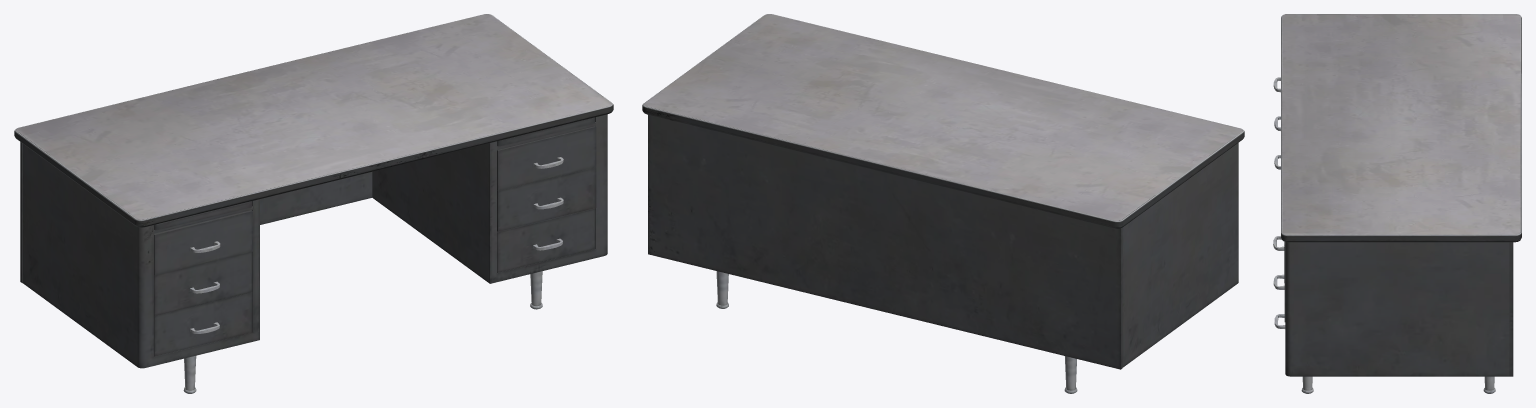
The model's file is metal_office_desk.glb.
The picture shows the model from 3 angles, left to right: view 1: azimuth 30°, elevation 25°; view 2: azimuth 150°, elevation 25°; view 3: azimuth 270°, elevation 25°; orthographic projection. The views are drawn at different scales.
Visible parts, largest first — view 1: metal_office_desk, metal_office_desk_drawer_04, metal_office_desk_drawer_01, metal_office_desk_drawer_02, metal_office_desk_drawer_03, metal_office_desk_drawer_06, metal_office_desk_drawer_05, metal_office_desk_tray_01, metal_office_desk_tray_02; view 2: metal_office_desk; view 3: metal_office_desk.
Part boxes in pixels (bbox=[...]): metal_office_desk: bbox=[14, 14, 613, 393]; metal_office_desk_drawer_04: bbox=[154, 210, 252, 275]; metal_office_desk_drawer_01: bbox=[497, 126, 596, 191]; metal_office_desk_drawer_02: bbox=[497, 167, 596, 231]; metal_office_desk_drawer_03: bbox=[497, 208, 595, 272]; metal_office_desk_drawer_06: bbox=[154, 292, 252, 356]; metal_office_desk_drawer_05: bbox=[154, 251, 252, 315]; metal_office_desk_tray_01: bbox=[154, 201, 252, 230]; metal_office_desk_tray_02: bbox=[497, 117, 594, 146]; metal_office_desk: bbox=[642, 14, 1244, 393]; metal_office_desk: bbox=[1281, 14, 1521, 393].
Size of the model in its own units: 2 by 0.7874 by 0.9472.
1 material, 1 textured.
